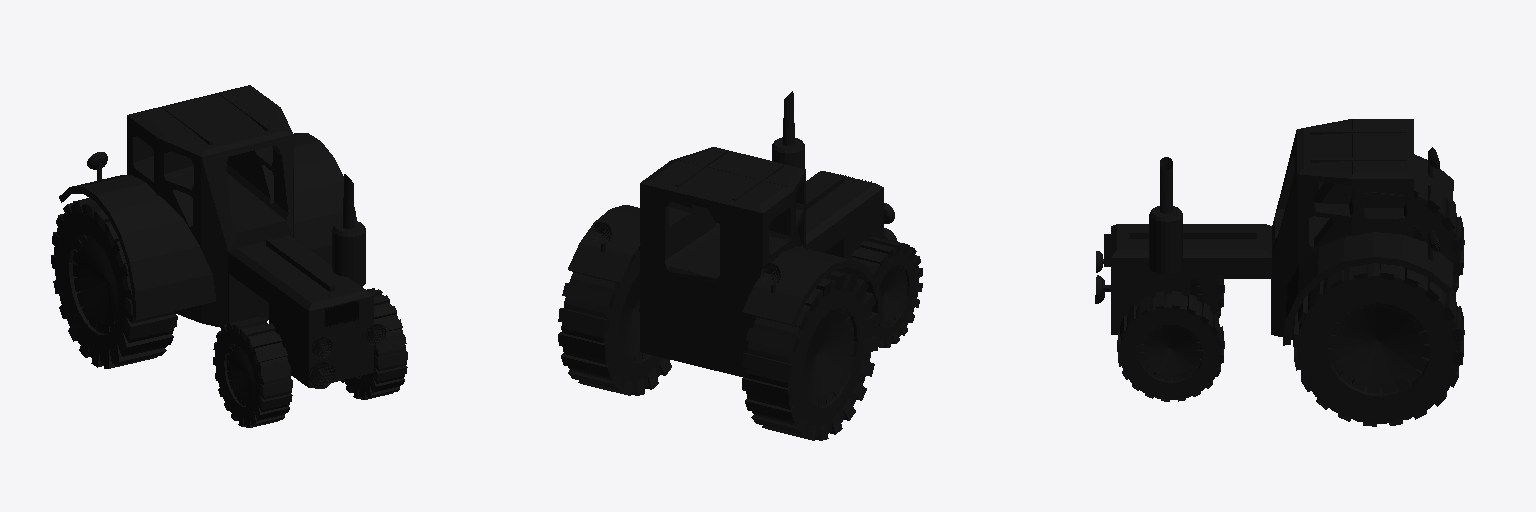
Rendered from tractor001.obj.
3 renders of one model, left to right at view 1: azimuth 30°, elevation 25°; view 2: azimuth 150°, elevation 25°; view 3: azimuth 270°, elevation 25°, orthographic.
Visible parts, largest first — view 1: pCylinder20 polySurface55, polySurface48, pCylinder20 polySurface35, pCylinder20 polySurface40, pCylinder20 polySurface37, pCylinder20 polySurface53, polySurface57 pCylinder20, pCylinder20 polySurface49, pCylinder20 polySurface52, pCylinder20 polySurface43, pCylinder20 polySurface56; view 2: pCylinder20 polySurface55, polySurface48, pCylinder20 polySurface37, pCylinder20 polySurface35, pCylinder20 polySurface33, pCylinder20 polySurface40, pCylinder20 polySurface53, polySurface57 pCylinder20, pCylinder20 polySurface56; view 3: pCylinder20 polySurface55, polySurface48, pCylinder20 polySurface33, pCylinder20 polySurface40, pCylinder20 polySurface49, polySurface57 pCylinder20, pCylinder20 polySurface37, pCylinder20 polySurface35, pCylinder20 polySurface52, pCylinder20 polySurface56, pCylinder20 polySurface53.
Part boxes in pixels (left/top/right/bottom): pCylinder20 polySurface55: left=127, top=85, right=373, bottom=387; polySurface48: left=51, top=198, right=407, bottom=427; pCylinder20 polySurface35: left=59, top=175, right=215, bottom=319; pCylinder20 polySurface40: left=294, top=133, right=356, bottom=264; pCylinder20 polySurface37: left=54, top=204, right=175, bottom=364; pCylinder20 polySurface53: left=215, top=323, right=291, bottom=424; polySurface57 pCylinder20: left=332, top=221, right=365, bottom=286; pCylinder20 polySurface49: left=344, top=295, right=406, bottom=396; pCylinder20 polySurface52: left=266, top=239, right=334, bottom=291; pCylinder20 polySurface43: left=308, top=362, right=334, bottom=388; pCylinder20 polySurface56: left=343, top=174, right=354, bottom=228; pCylinder20 polySurface55: left=640, top=147, right=883, bottom=377; polySurface48: left=558, top=237, right=922, bottom=440; pCylinder20 polySurface37: left=745, top=278, right=872, bottom=437; pCylinder20 polySurface35: left=742, top=246, right=882, bottom=325; pCylinder20 polySurface33: left=561, top=248, right=669, bottom=392; pCylinder20 polySurface40: left=568, top=205, right=640, bottom=281; pCylinder20 polySurface53: left=852, top=241, right=918, bottom=345; polySurface57 pCylinder20: left=772, top=137, right=804, bottom=168; pCylinder20 polySurface56: left=783, top=91, right=794, bottom=145; pCylinder20 polySurface55: left=1104, top=119, right=1413, bottom=339; polySurface48: left=1117, top=179, right=1464, bottom=426; pCylinder20 polySurface33: left=1297, top=263, right=1460, bottom=423; pCylinder20 polySurface40: left=1283, top=232, right=1452, bottom=345; pCylinder20 polySurface49: left=1120, top=294, right=1222, bottom=399; polySurface57 pCylinder20: left=1149, top=206, right=1182, bottom=273; pCylinder20 polySurface37: left=1414, top=181, right=1460, bottom=284; pCylinder20 polySurface35: left=1314, top=154, right=1453, bottom=203; pCylinder20 polySurface52: left=1129, top=231, right=1256, bottom=238; pCylinder20 polySurface56: left=1160, top=157, right=1172, bottom=213; pCylinder20 polySurface53: left=1196, top=279, right=1222, bottom=313.
Bounding box in the file's own units: 9.18 × 8.54 × 12.42.